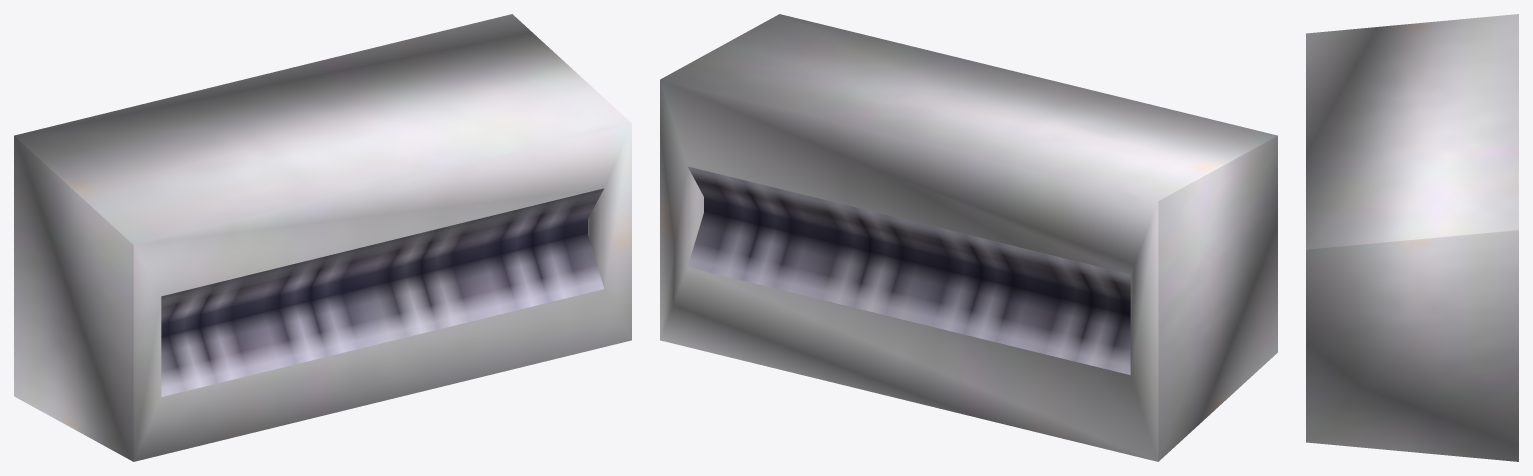
Rendered from shredder.glb.
3 views of the same model, side by side, from view 1: azimuth 30°, elevation 25°; view 2: azimuth 150°, elevation 25°; view 3: azimuth 270°, elevation 25° (orthographic). The views are drawn at different scales.
Visible parts, largest first — view 1: shredder; view 2: shredder; view 3: shredder.
Boxes of the visible parts, <box> form: shredder: <box>14,14,631,461</box>; shredder: <box>660,14,1277,461</box>; shredder: <box>1306,14,1518,461</box>.
Bounding box in the file's own units: 0.3 × 0.15 × 0.1247.
2 materials, 2 textured.
